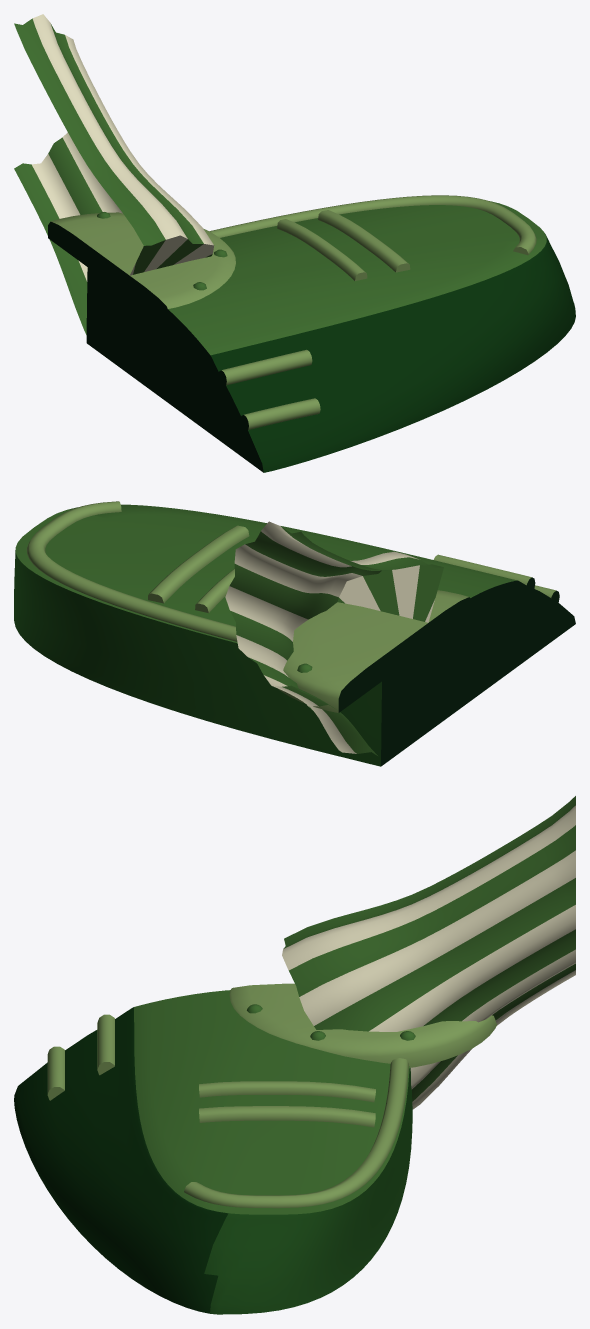
The model's file is green_tower_br.glb.
3 views of the same model, one above another, from view 1: azimuth 30°, elevation 25°; view 2: azimuth 150°, elevation 25°; view 3: azimuth 270°, elevation 25° (orthographic). The views are drawn at different scales.
Visible parts, largest first — view 1: plate.001, stem.001, flange.001, lip.001, front_bar0.001, rib1_0.001, rib1_1.001, front_bar1.001; view 2: plate.001, stem.001, flange.001, lip.001, rib1_0.001, front_bar0.001, rib1_1.001; view 3: plate.001, stem.001, flange.001, lip.001, rib1_0.001, rib1_1.001, front_bar0.001, front_bar1.001.
Part boxes in pixels (x1=…): plate.001: x1=86, y1=201, x2=575, y2=472; stem.001: x1=14, y1=14, x2=214, y2=334; flange.001: x1=48, y1=212, x2=235, y2=326; lip.001: x1=88, y1=195, x2=536, y2=272; front_bar0.001: x1=218, y1=349, x2=312, y2=386; rib1_0.001: x1=318, y1=210, x2=410, y2=272; rib1_1.001: x1=277, y1=219, x2=367, y2=280; front_bar1.001: x1=240, y1=398, x2=320, y2=430; plate.001: x1=14, y1=504, x2=575, y2=766; stem.001: x1=225, y1=521, x2=443, y2=755; flange.001: x1=277, y1=590, x2=471, y2=712; lip.001: x1=26, y1=501, x2=390, y2=680; rib1_0.001: x1=148, y1=525, x2=249, y2=603; front_bar0.001: x1=433, y1=554, x2=535, y2=595; rib1_1.001: x1=195, y1=568, x2=234, y2=612; plate.001: x1=14, y1=990, x2=412, y2=1314; stem.001: x1=282, y1=796, x2=575, y2=1109; flange.001: x1=229, y1=983, x2=496, y2=1067; lip.001: x1=184, y1=1058, x2=408, y2=1208; rib1_0.001: x1=199, y1=1106, x2=375, y2=1127; rib1_1.001: x1=199, y1=1081, x2=375, y2=1102; front_bar0.001: x1=97, y1=1014, x2=114, y2=1075; front_bar1.001: x1=47, y1=1046, x2=64, y2=1100.
Bounding box in the file's own units: 22.9 × 14.72 × 24.8.
